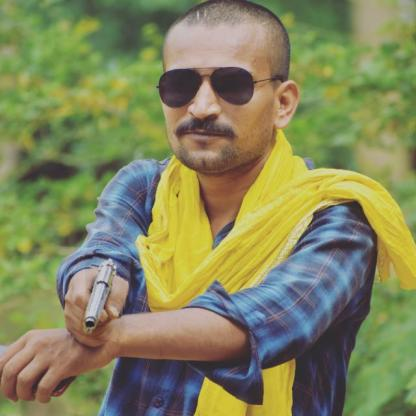handgun: (82, 254, 128, 340)
